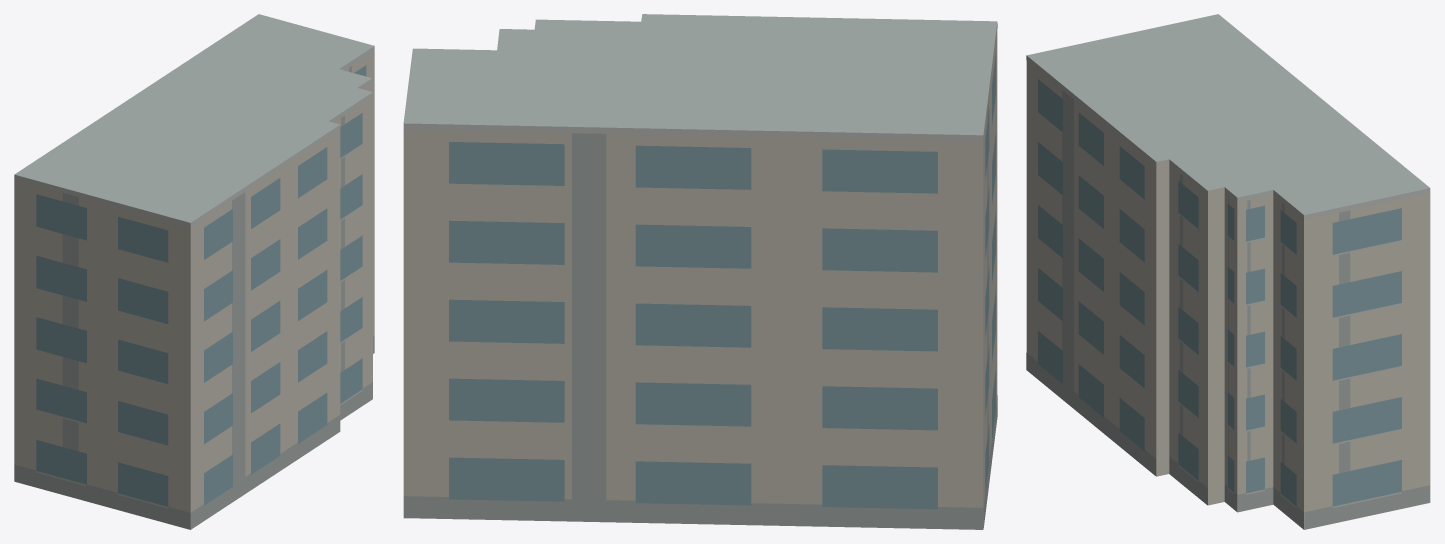
Rendered from residential-0ec1ab70-8601-4f6c-af5f-b702640668f8.glb.
The picture shows the model from 3 angles, left to right: view 1: azimuth 30°, elevation 25°; view 2: azimuth 150°, elevation 25°; view 3: azimuth 270°, elevation 25°; orthographic projection. The views are drawn at different scales.
Parts seen in each view (by area): view 1: residential-0ec1ab70-8601-4f6c-af5f-b702640668f8.tmp; view 2: residential-0ec1ab70-8601-4f6c-af5f-b702640668f8.tmp; view 3: residential-0ec1ab70-8601-4f6c-af5f-b702640668f8.tmp.
Part boxes in pixels (left/top/right/bottom): residential-0ec1ab70-8601-4f6c-af5f-b702640668f8.tmp: left=14, top=14, right=374, bottom=529; residential-0ec1ab70-8601-4f6c-af5f-b702640668f8.tmp: left=403, top=14, right=997, bottom=529; residential-0ec1ab70-8601-4f6c-af5f-b702640668f8.tmp: left=1026, top=14, right=1430, bottom=529.
Size of the model in its own units: 20.92 by 15.25 by 17.74.
